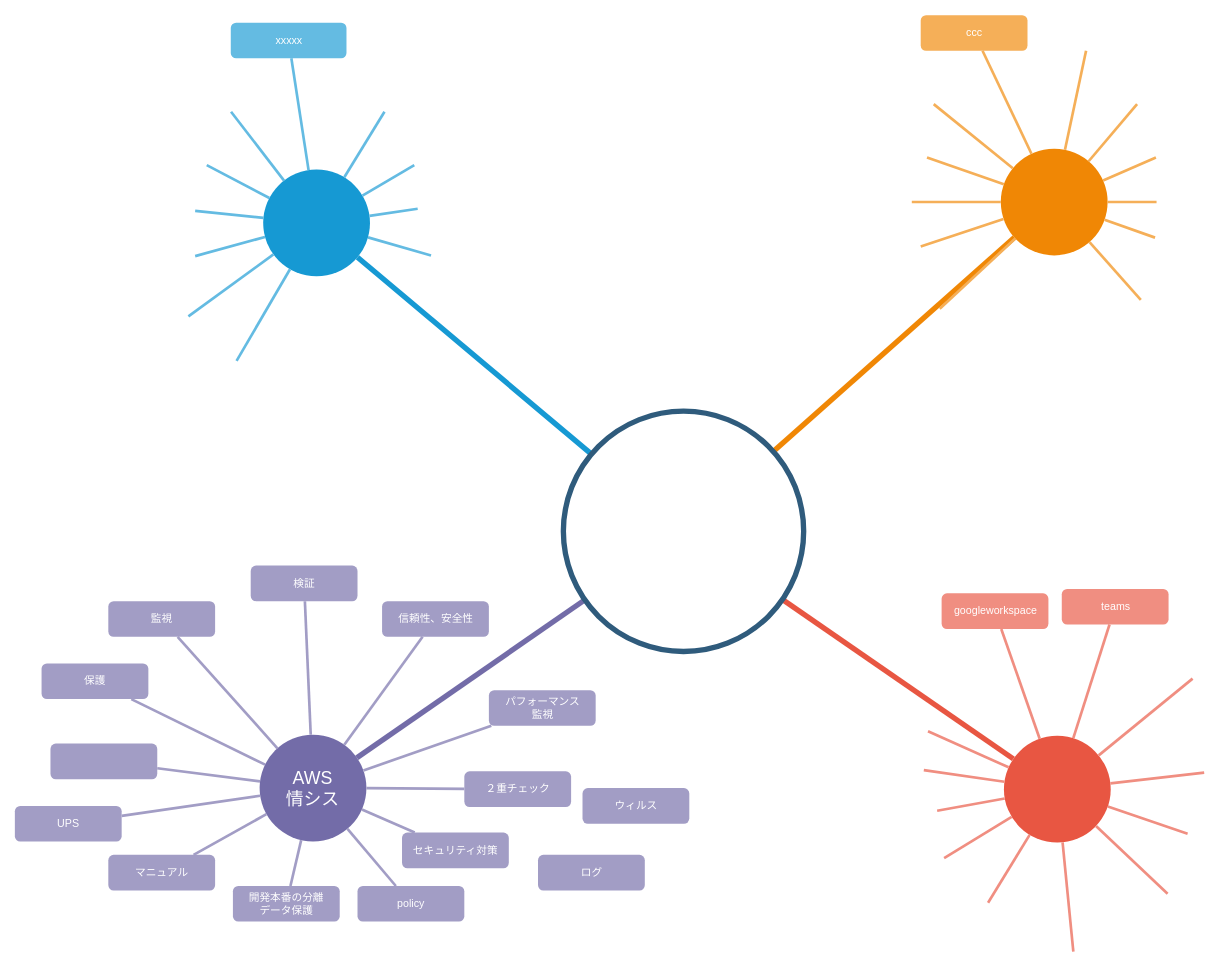
Some shapes in this 1222 by 969 pixel diagram are drawn without their labels. The centre of each missing label's shape, as x and y in pixels:
astec paints: the point at 683,531
AWS 他部署: the point at 1053,201
DR: the point at 103,761
その他 クラウド サービス: the point at 1056,788
オンプレミス 全社: the point at 316,222
